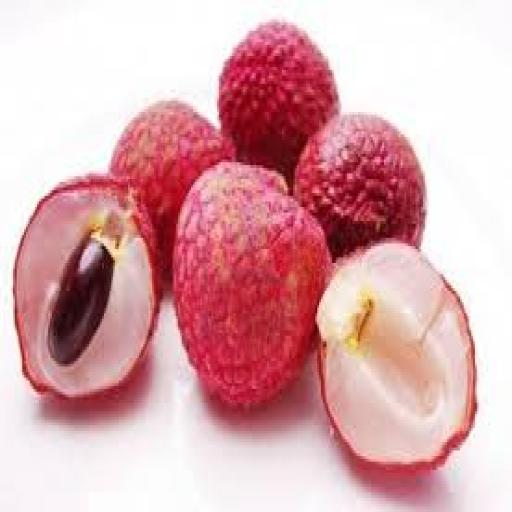lychee: (173, 163, 330, 405), (318, 241, 476, 470), (13, 177, 159, 397), (110, 101, 233, 262), (219, 23, 337, 181), (295, 115, 426, 257)
